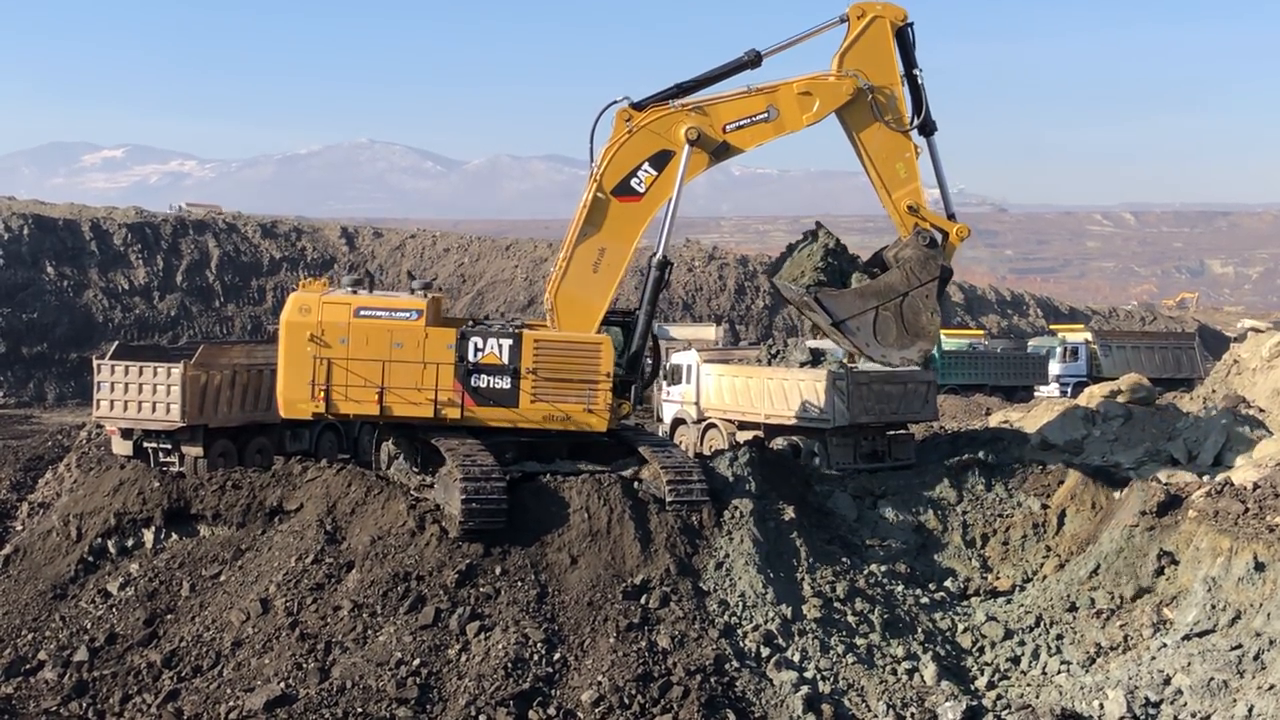full: (754, 210, 962, 369)
